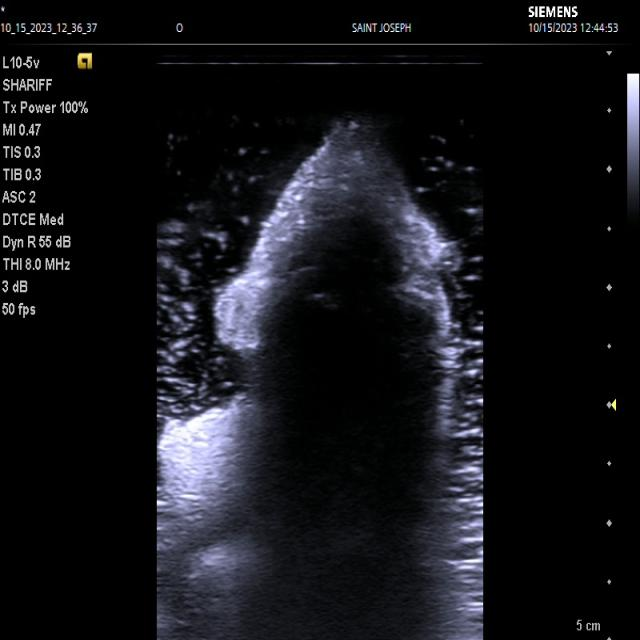tissue: (161, 116, 464, 537)
